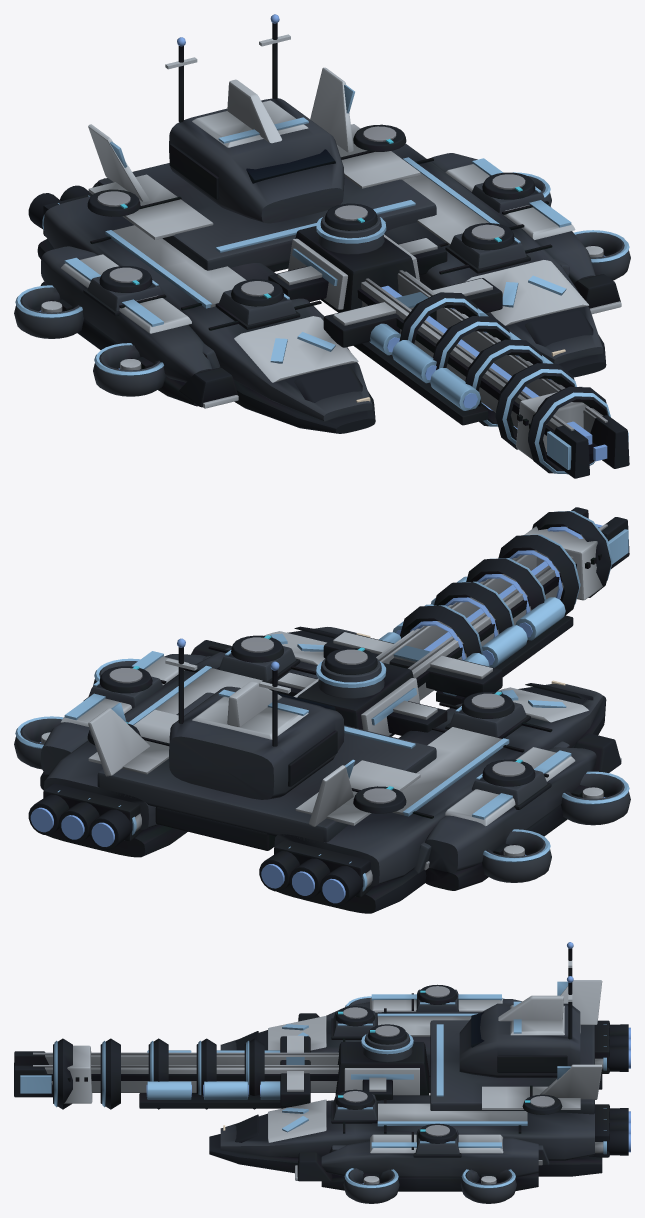
Rendered from ex_lancer_12.glb.
3 views of the same model, one above another, from view 1: azimuth 30°, elevation 25°; view 2: azimuth 150°, elevation 25°; view 3: azimuth 270°, elevation 25° (orthographic). The views are drawn at different scales.
Visible parts, largest first — view 1: body; view 2: body; view 3: body.
Boxes of the visible parts, x1,y1,x2,y2 form: body: (14, 14, 630, 478); body: (14, 507, 630, 913); body: (14, 942, 630, 1203).
Size of the model in its own units: 16.46 by 6.41 by 22.41.
